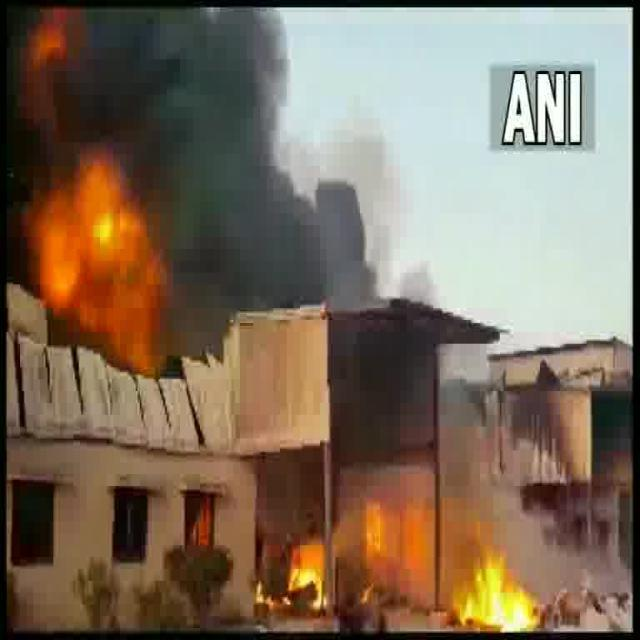Fire: (274, 496, 552, 626), (27, 157, 172, 360), (16, 7, 72, 94)
Smoke: (182, 27, 355, 285), (93, 24, 169, 134)
